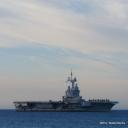Portanaves: (14, 69, 121, 114)
